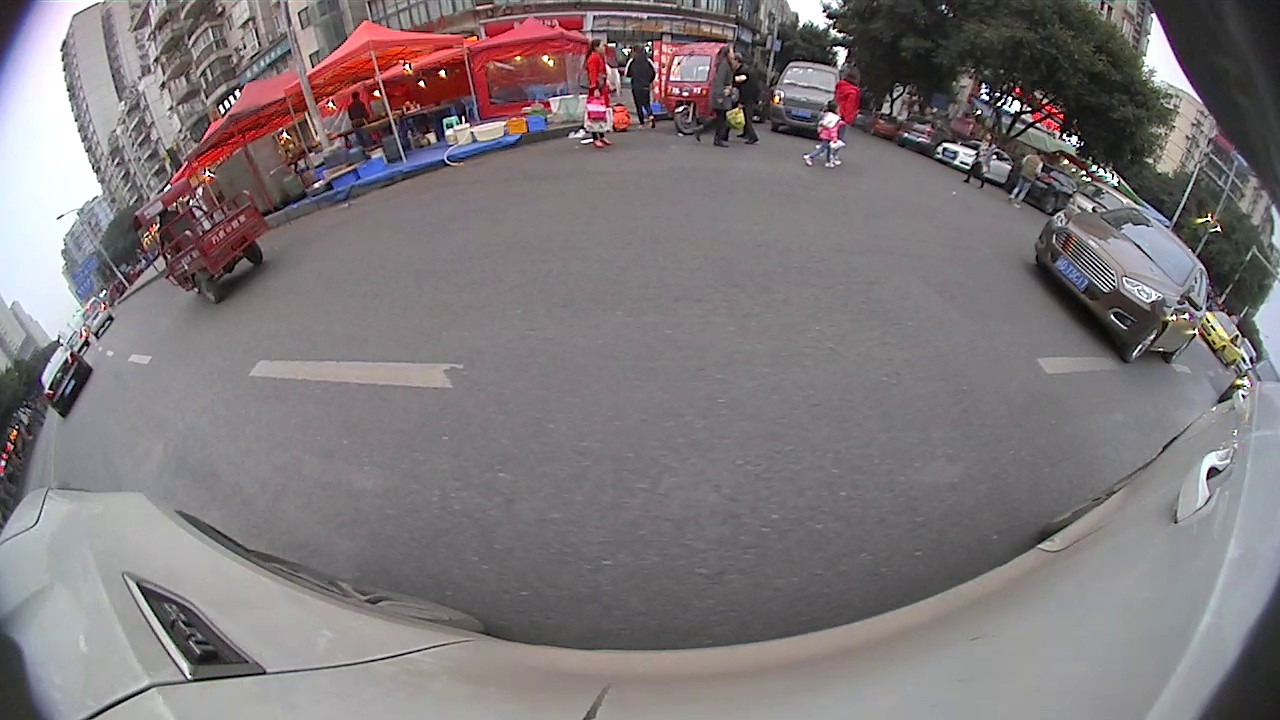car: (1037, 201, 1211, 366), (771, 52, 848, 142), (32, 340, 96, 422), (936, 137, 1015, 187), (1012, 161, 1082, 211), (1060, 176, 1139, 217), (1200, 302, 1244, 367), (895, 111, 954, 155), (74, 295, 115, 343)
front: (1117, 321, 1166, 366), (674, 103, 700, 138)
person: (625, 42, 660, 129), (711, 42, 738, 151), (586, 36, 611, 151), (836, 64, 863, 170), (1012, 145, 1044, 211), (976, 127, 1000, 191), (821, 98, 839, 173)
rear: (191, 270, 221, 308)
rider: (129, 174, 271, 304), (664, 36, 740, 138)
